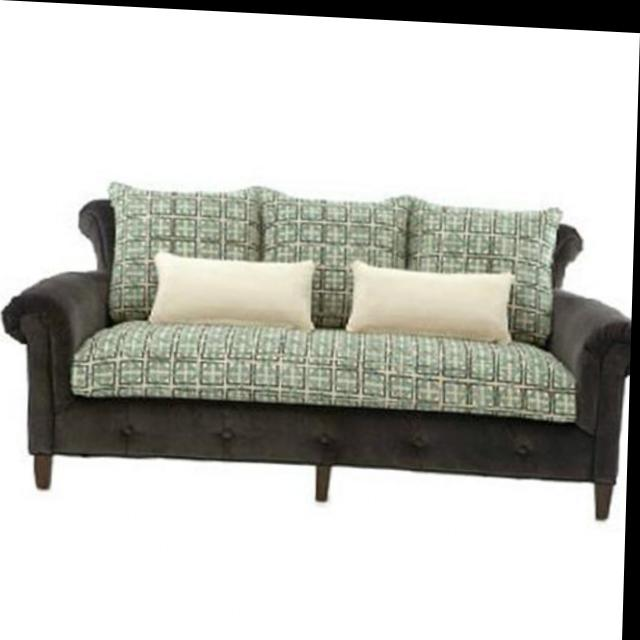Sofa: (1, 171, 636, 517)
